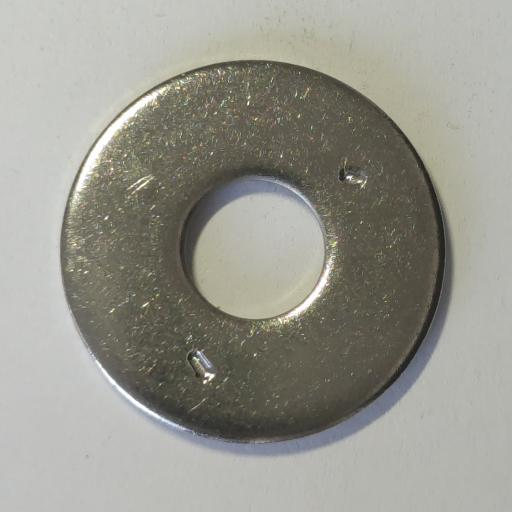circular_cavity: (187, 349, 216, 385), (338, 165, 368, 189)
